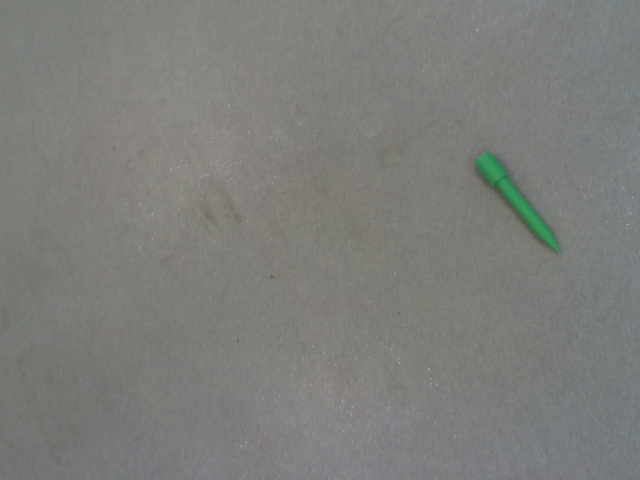Probe: (470, 145, 570, 262)
